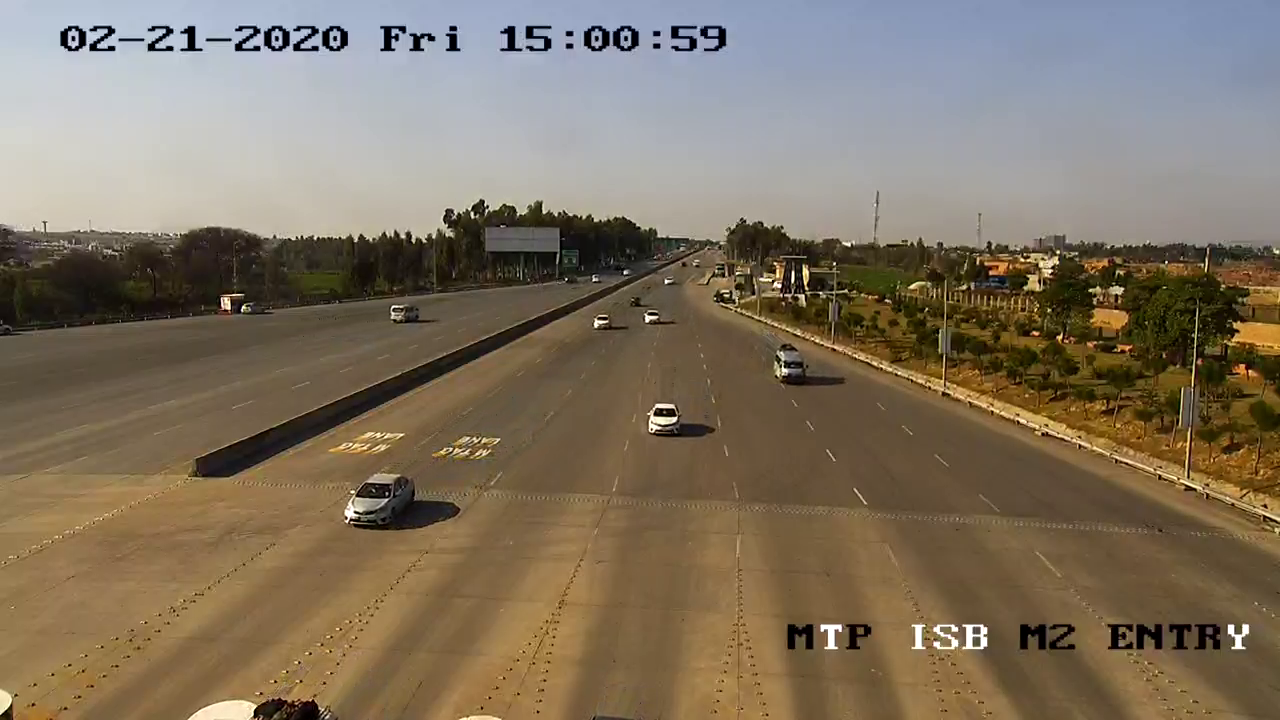f1: (331, 457, 426, 537), (635, 398, 689, 444)
